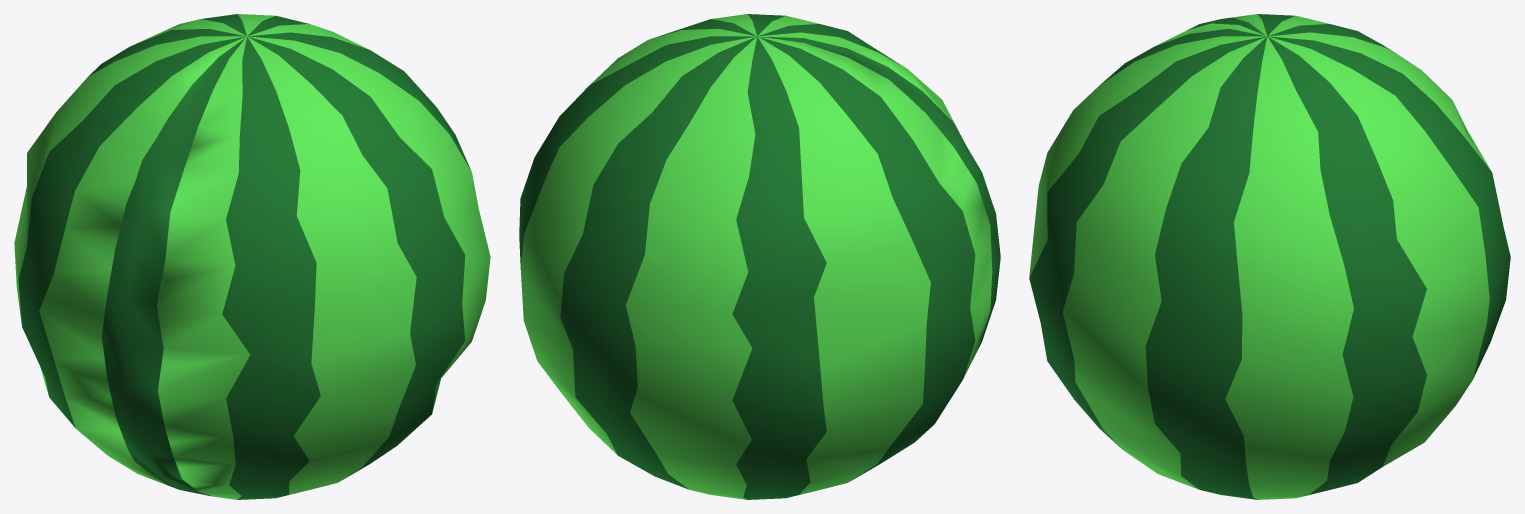
File: semangka.glb
The picture shows the model from 3 angles, left to right: view 1: azimuth 30°, elevation 25°; view 2: azimuth 150°, elevation 25°; view 3: azimuth 270°, elevation 25°; orthographic projection.
Visible parts, largest first — view 1: Sphere; view 2: Sphere; view 3: Sphere.
Part boxes in pixels (left/top/right/bottom): Sphere: left=14, top=14, right=490, bottom=499; Sphere: left=519, top=14, right=1000, bottom=499; Sphere: left=1029, top=14, right=1510, bottom=499.
Size of the model in its own units: 0.3855 by 0.3937 by 0.3828.
